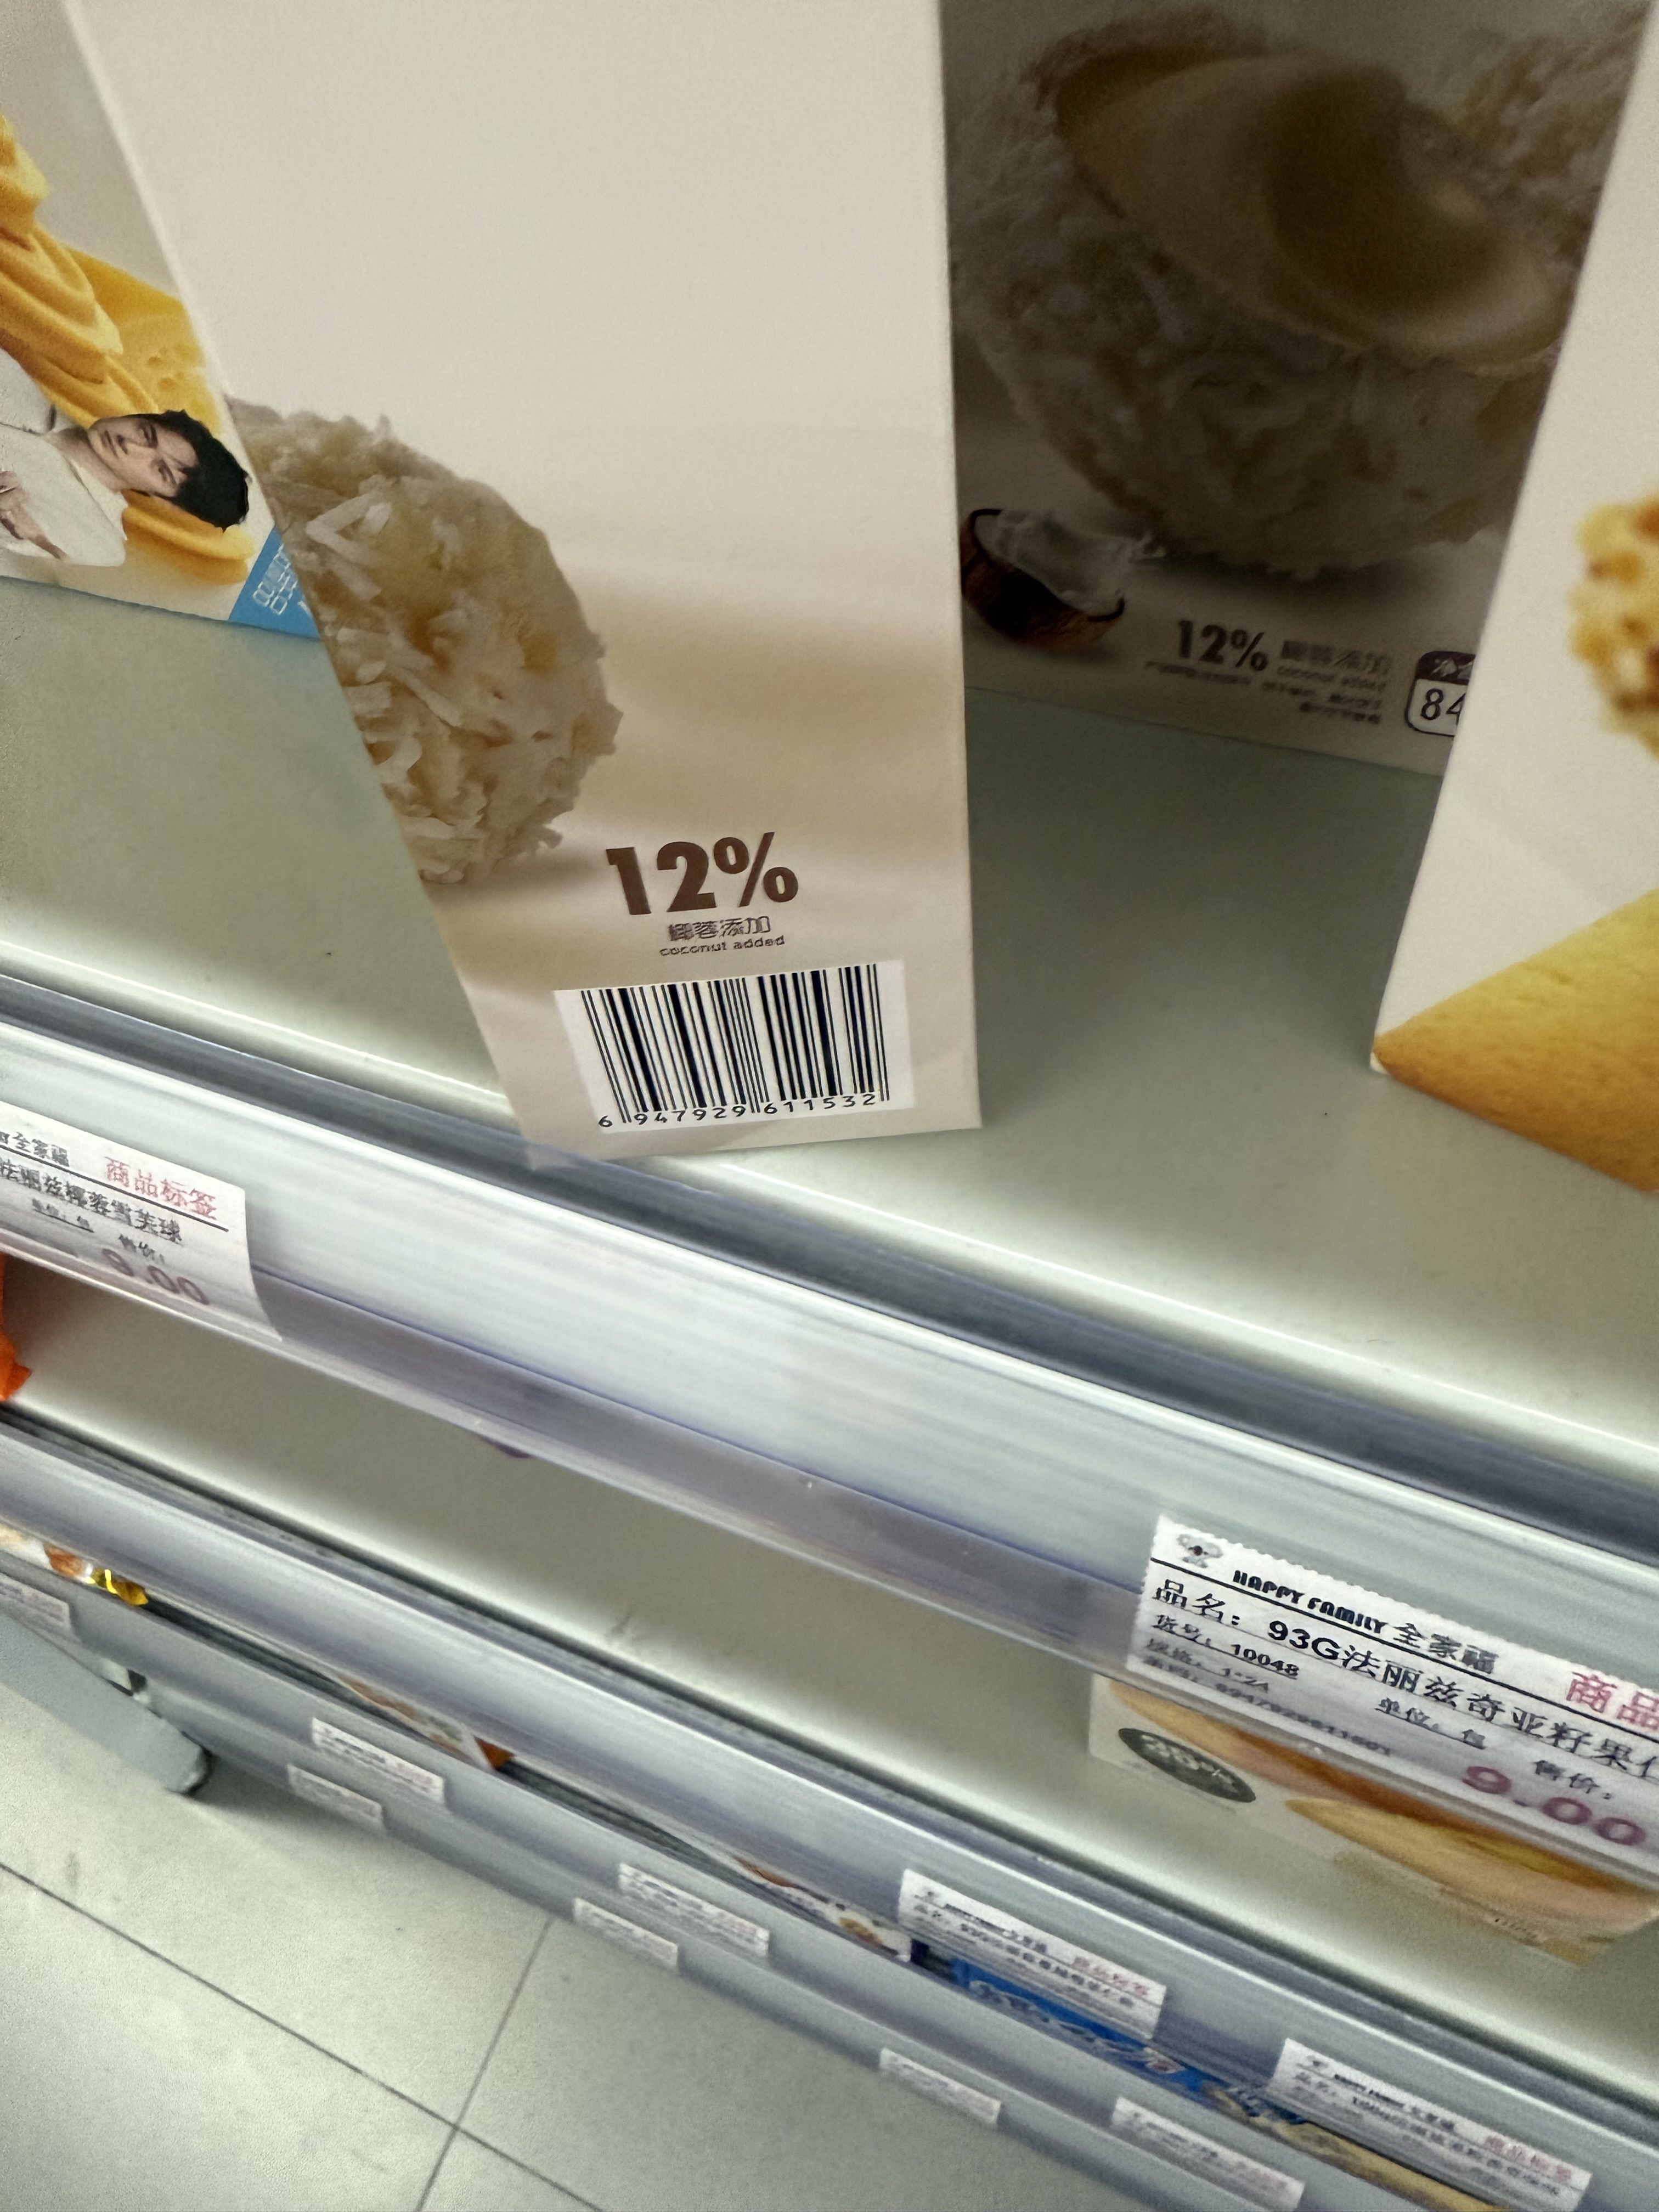bar: (577, 958, 903, 1130)
